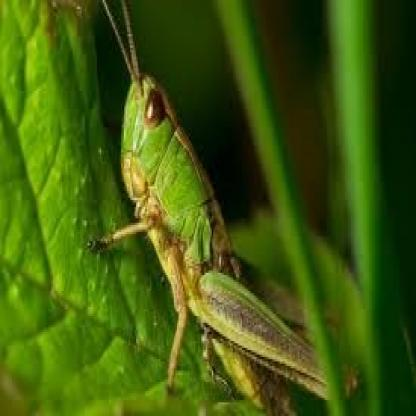grasshopper: (92, 7, 347, 416)
